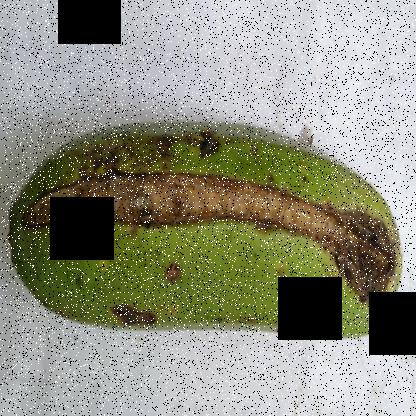rotten: (0, 103, 406, 356)
